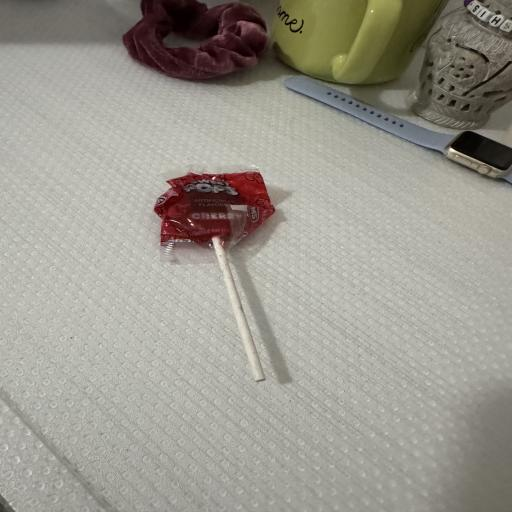chocolate: (154, 168, 275, 381)
